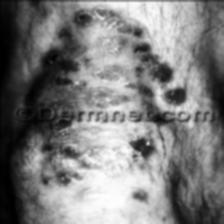Non-Cancerous Skin Condition: (26, 14, 190, 106), (25, 126, 172, 185)
